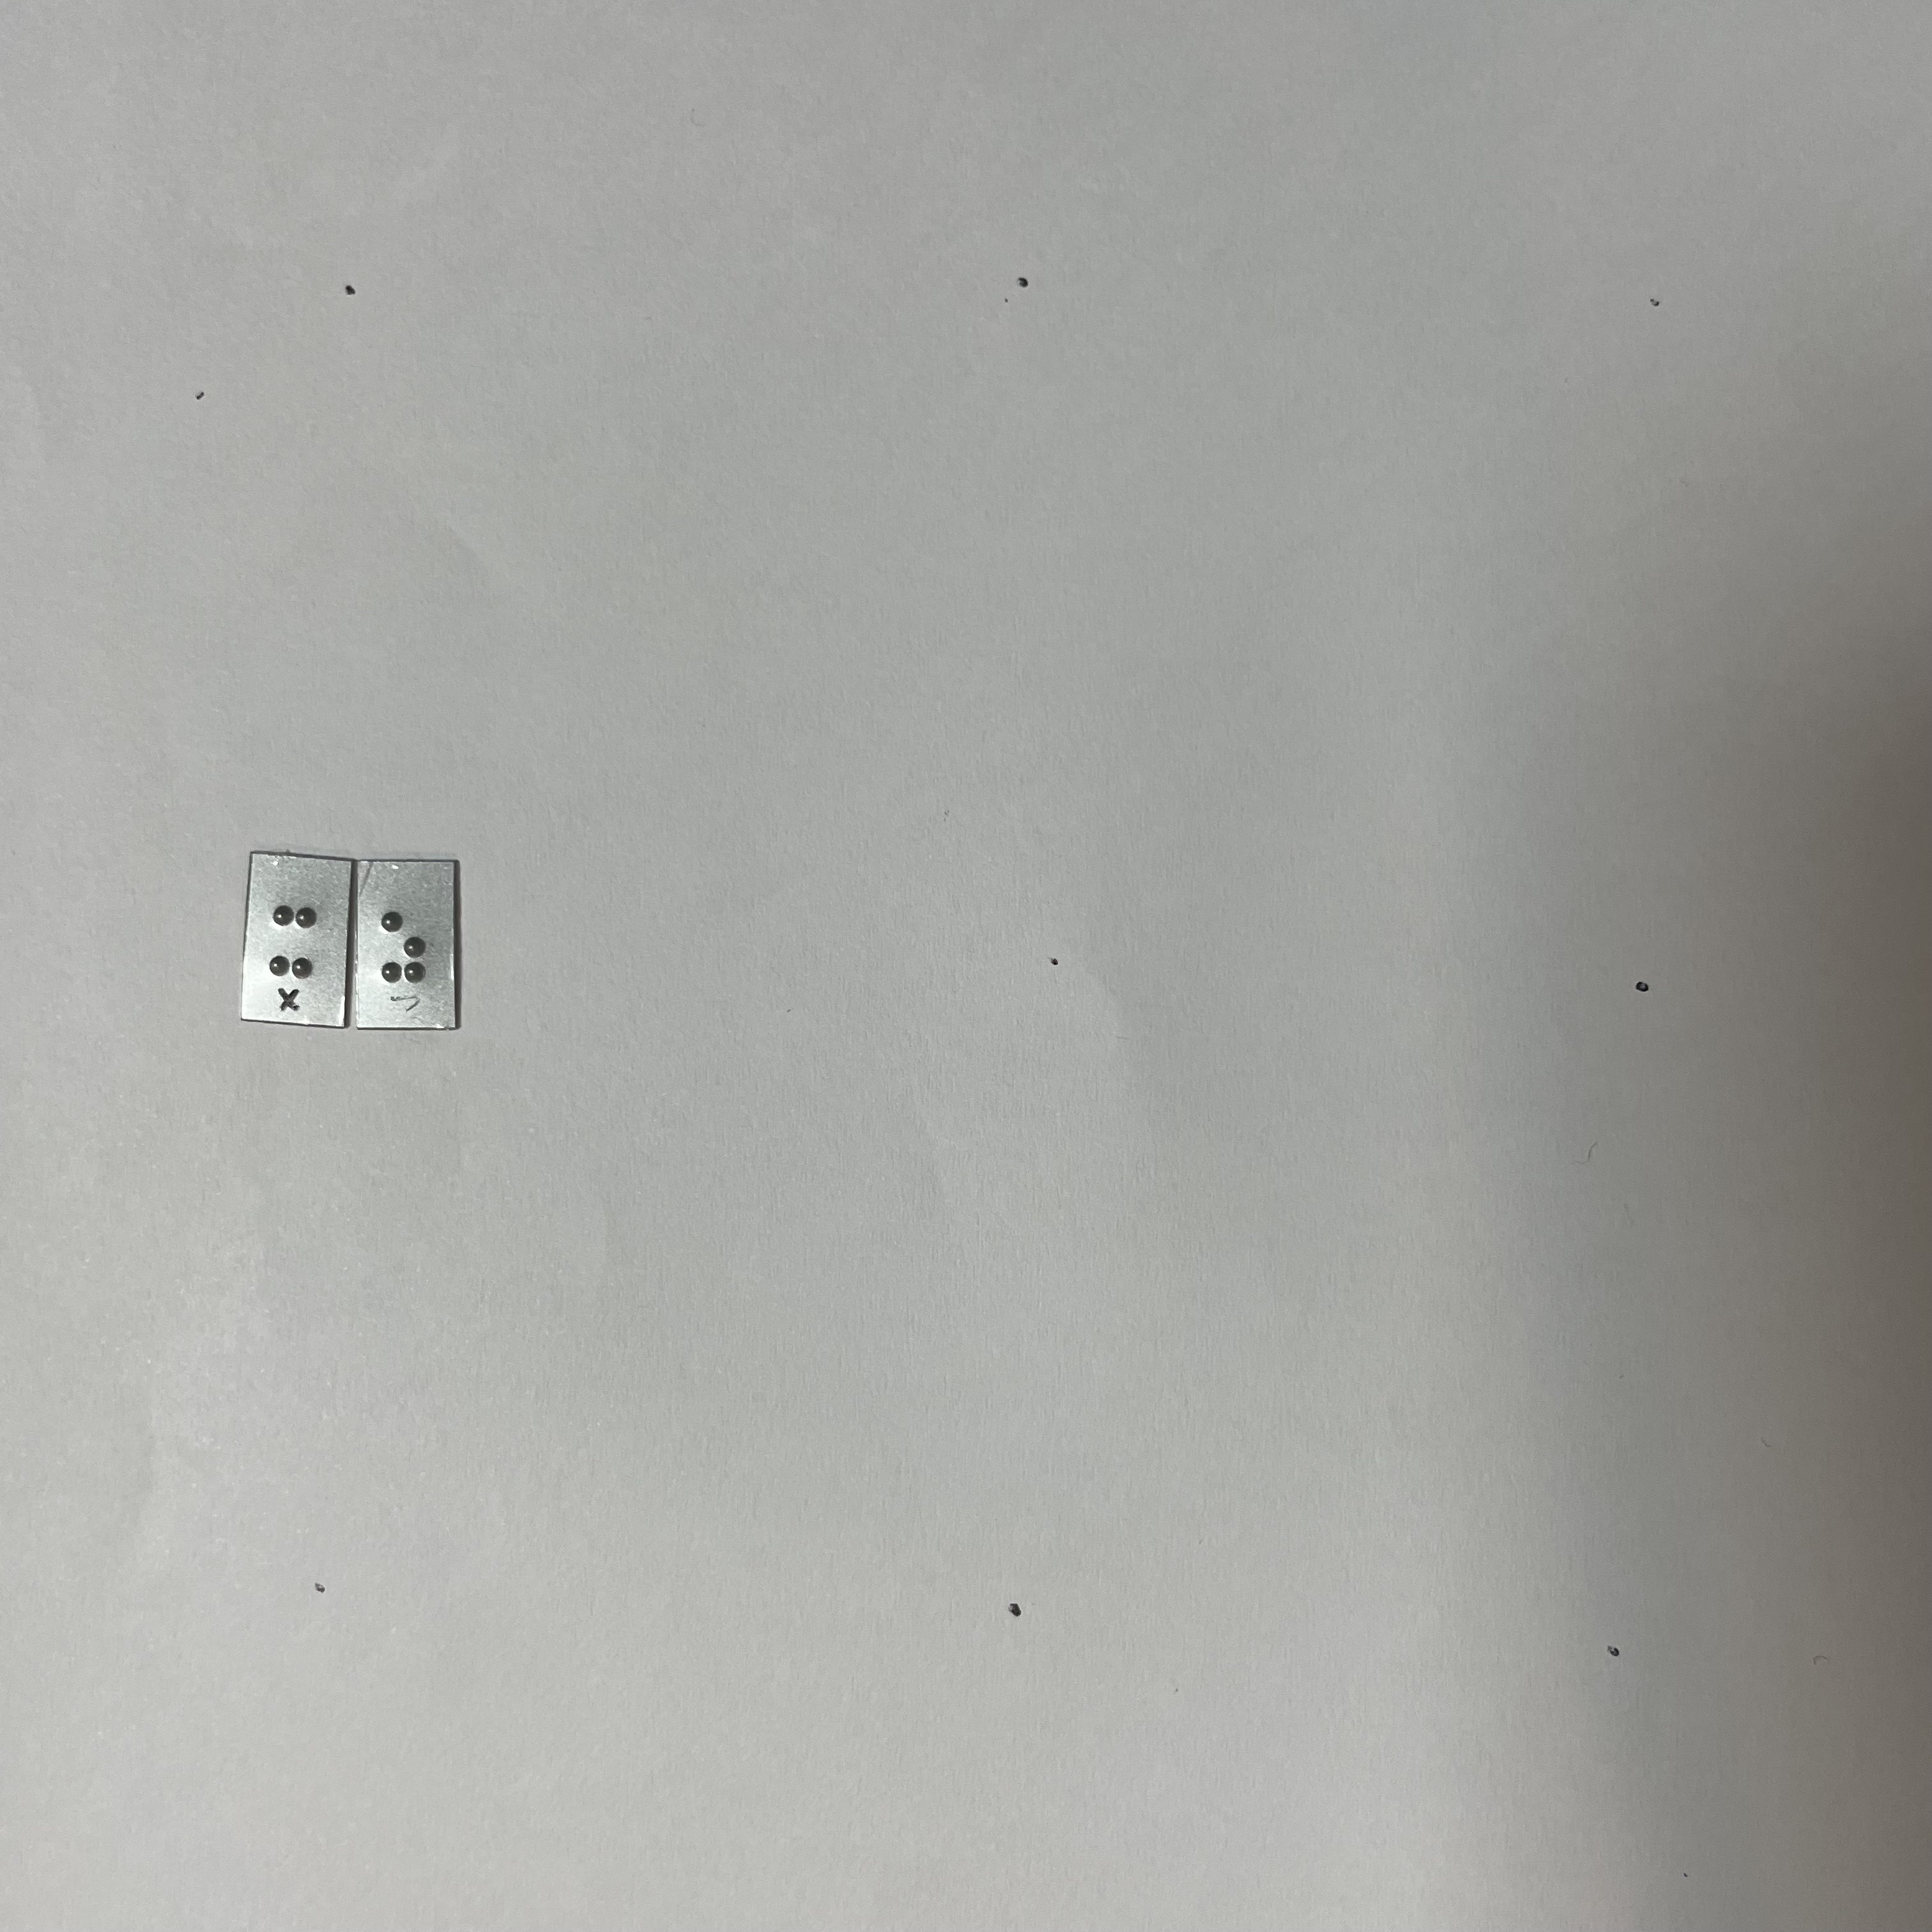x: (263, 894, 325, 985)
z: (371, 903, 436, 987)
